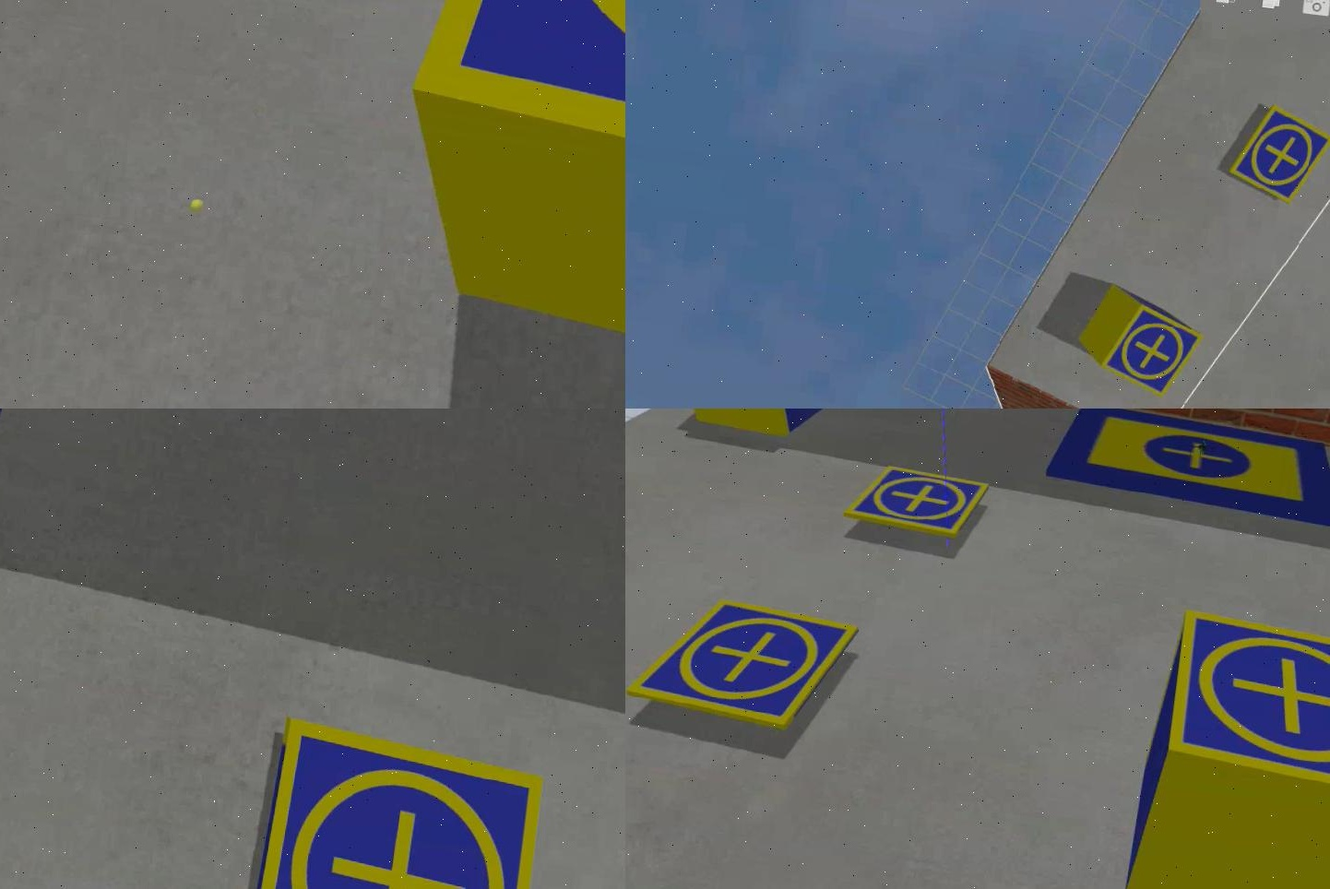large_base: (1039, 409, 1328, 528)
small_base: (397, 1, 624, 279), (224, 710, 554, 889), (624, 591, 856, 735), (1163, 606, 1328, 806), (842, 462, 988, 541), (1222, 102, 1328, 207), (1097, 301, 1202, 400)
